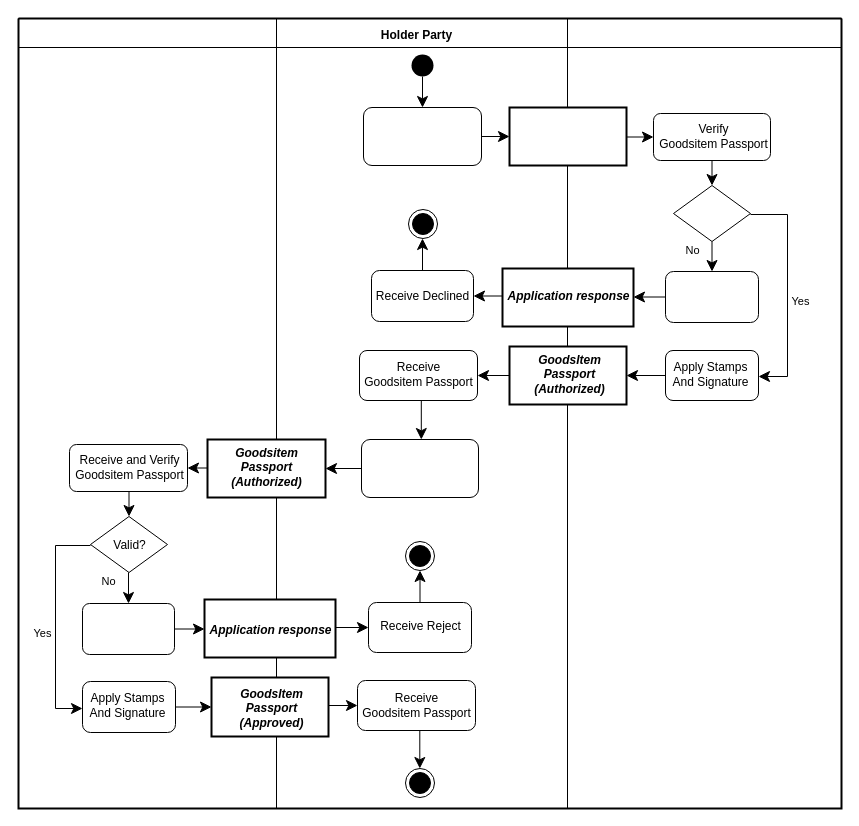
Image size: 859x826. Some labels were removed from this diagram. The shapes that lost their labels are listed below. From the top down, each one's box as (x1, y1, x2, y2) in pixels, then its label:
(362, 106, 482, 166): Draft Goodsitem Passport
(508, 106, 627, 166): Goodsitem Passport (Drafted)
(672, 184, 750, 242): OK?
(664, 270, 758, 322): Send Declined
(18, 18, 276, 808): Exporting Customs Party
(566, 18, 842, 808): Issuer Party
(360, 438, 478, 498): Request Goods To Leave Country
(82, 602, 174, 654): Send Reject
